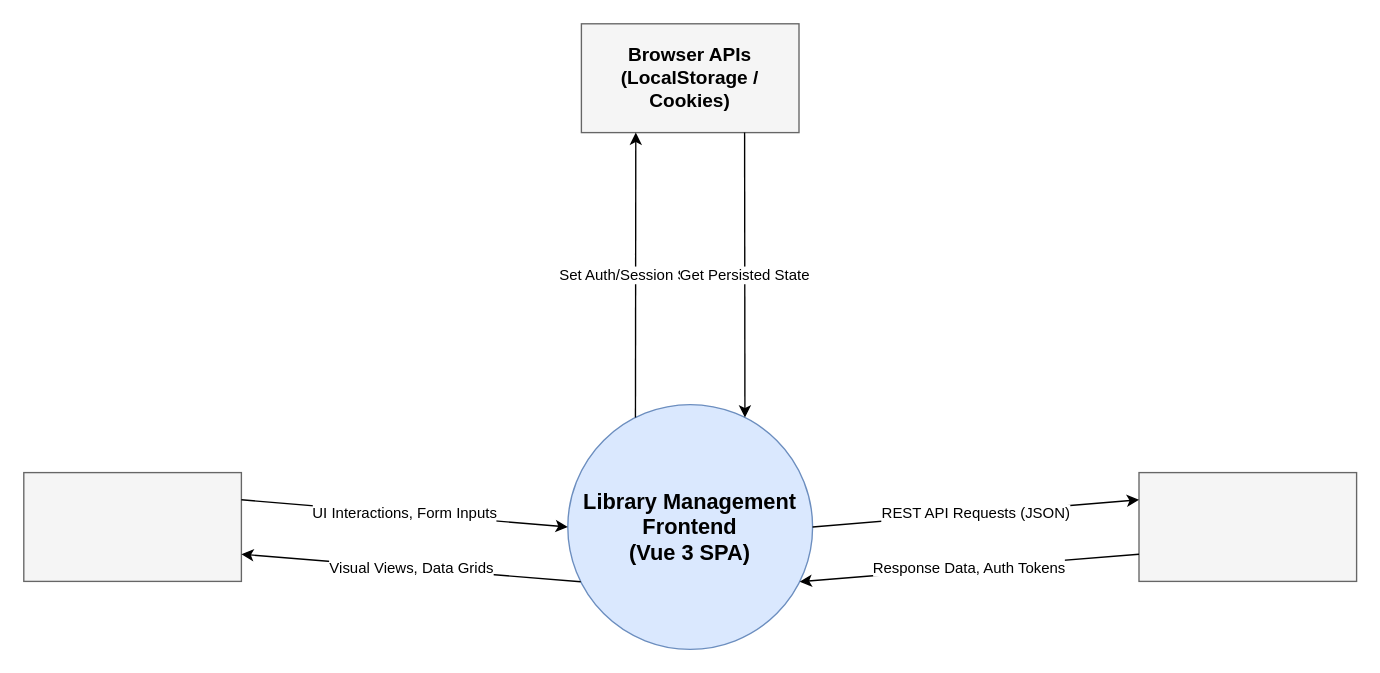
The diagram is 1380 pixels wide and 673 high, and some of its shapes have lost their labels. The centre of each missing label's shape, as x and y in pixels:
Flask Backend API: the point at 1247,526
Librarian / Staff: the point at 131,526
